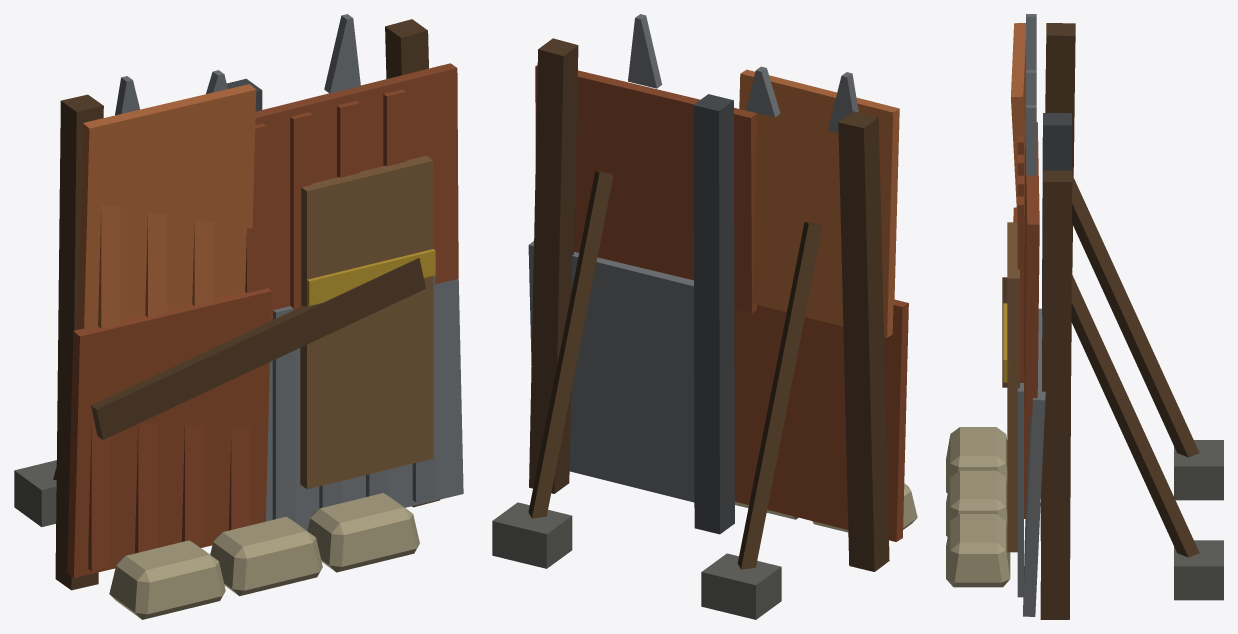
File: cover_high_wall.glb
3 views of the same model, side by side, from view 1: azimuth 30°, elevation 25°; view 2: azimuth 150°, elevation 25°; view 3: azimuth 270°, elevation 25° (orthographic). The views are drawn at different scales.
Visible parts, largest first — view 1: cover_mesh; view 2: cover_mesh; view 3: cover_mesh.
Boxes of the visible parts, x1=… form: cover_mesh: x1=14, y1=14, x2=463, y2=619; cover_mesh: x1=492, y1=14, x2=917, y2=619; cover_mesh: x1=946, y1=14, x2=1223, y2=619.
Size of the model in its own units: 1.98 by 2.49 by 1.33.
